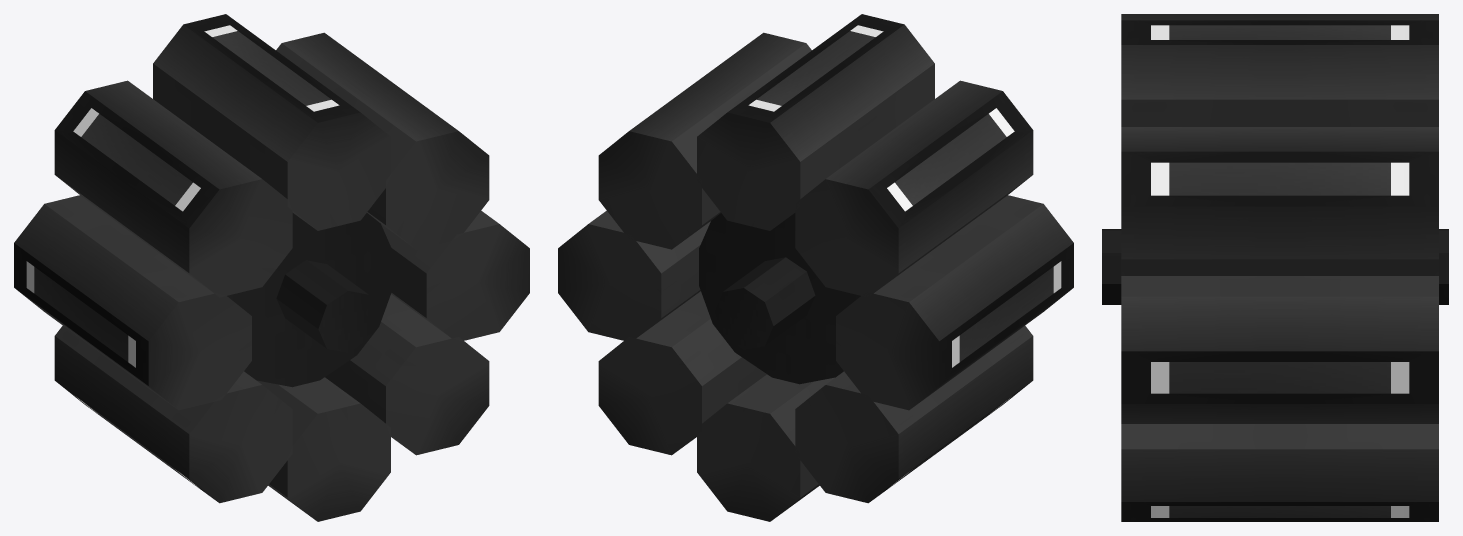
The model's file is GrenadeDrum.fbx.
3 renders of one model, left to right at view 1: azimuth 30°, elevation 25°; view 2: azimuth 150°, elevation 25°; view 3: azimuth 270°, elevation 25°, orthographic. The views are drawn at different scales.
Visible parts, largest first — view 1: Grenade_mesh7, Grenade_mesh5, Grenade_mesh8, Grenade_mesh4, Base, Grenade_mesh2, Grenade_mesh3, Grenade_mesh1, Grenade_mesh6; view 2: Grenade_mesh7, Grenade_mesh5, Grenade_mesh8, Grenade_mesh4, Grenade_mesh2, Base, Grenade_mesh3, Grenade_mesh1, Grenade_mesh6; view 3: Grenade_mesh2, Grenade_mesh1, Grenade_mesh8, Grenade_mesh3, Base, Grenade_mesh7.
Boxes of the visible parts, box(x1,y1,x2,y2) form: Grenade_mesh7: box(54, 80, 292, 297); Grenade_mesh5: box(14, 195, 251, 410); Grenade_mesh8: box(153, 14, 390, 230); Grenade_mesh4: box(54, 326, 292, 503); Base: box(227, 213, 392, 387); Grenade_mesh2: box(276, 32, 489, 249); Grenade_mesh3: box(325, 294, 489, 455); Grenade_mesh1: box(381, 210, 529, 340); Grenade_mesh6: box(256, 377, 390, 521); Grenade_mesh7: box(795, 80, 1033, 297); Grenade_mesh5: box(836, 195, 1073, 410); Grenade_mesh8: box(697, 14, 934, 230); Grenade_mesh4: box(795, 326, 1033, 503); Grenade_mesh2: box(598, 32, 811, 249); Base: box(699, 213, 860, 384); Grenade_mesh3: box(598, 291, 766, 455); Grenade_mesh1: box(558, 210, 710, 340); Grenade_mesh6: box(697, 374, 834, 521); Grenade_mesh2: box(1121, 127, 1438, 275); Grenade_mesh1: box(1121, 276, 1438, 423); Grenade_mesh8: box(1121, 20, 1438, 126); Grenade_mesh3: box(1121, 424, 1438, 521); Base: box(1102, 229, 1448, 304); Grenade_mesh7: box(1121, 14, 1438, 20).
Size of the model in its own units: 19.21 by 19.21 by 12.83.
